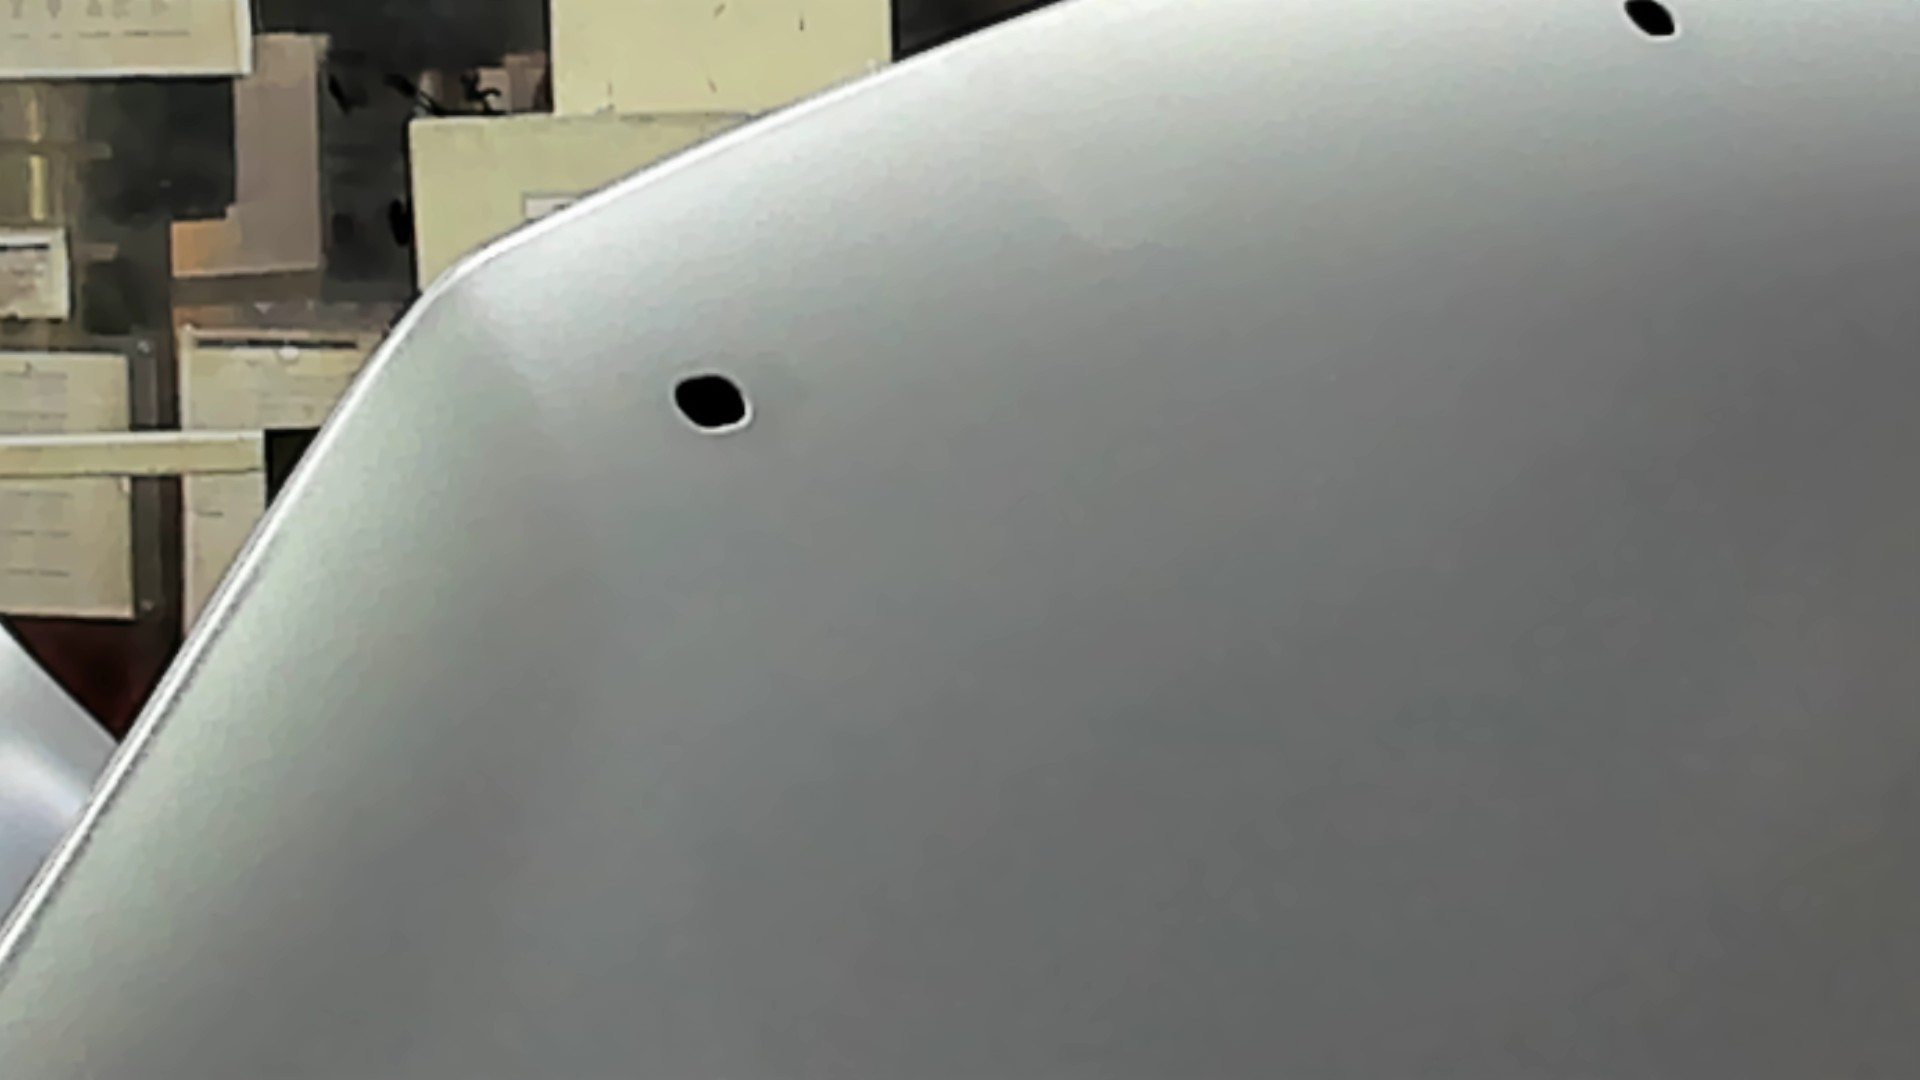amorfo: (669, 367, 756, 436), (1619, 1, 1677, 49)
